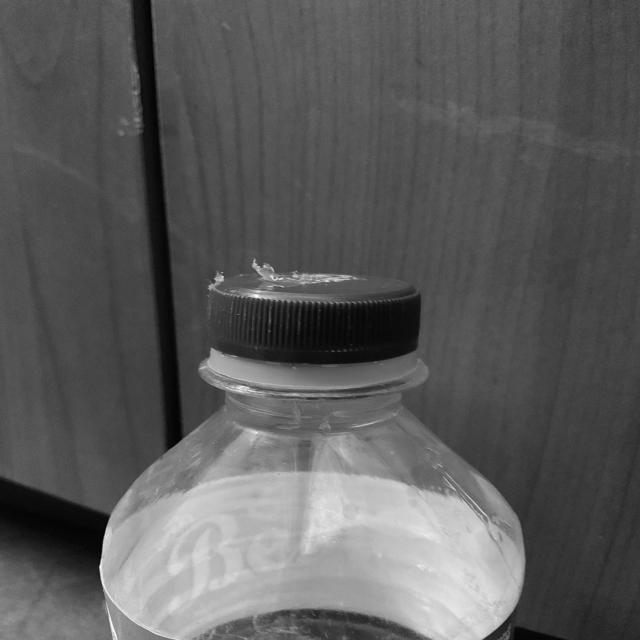Good-cap-Df0S: (185, 272, 433, 388)
